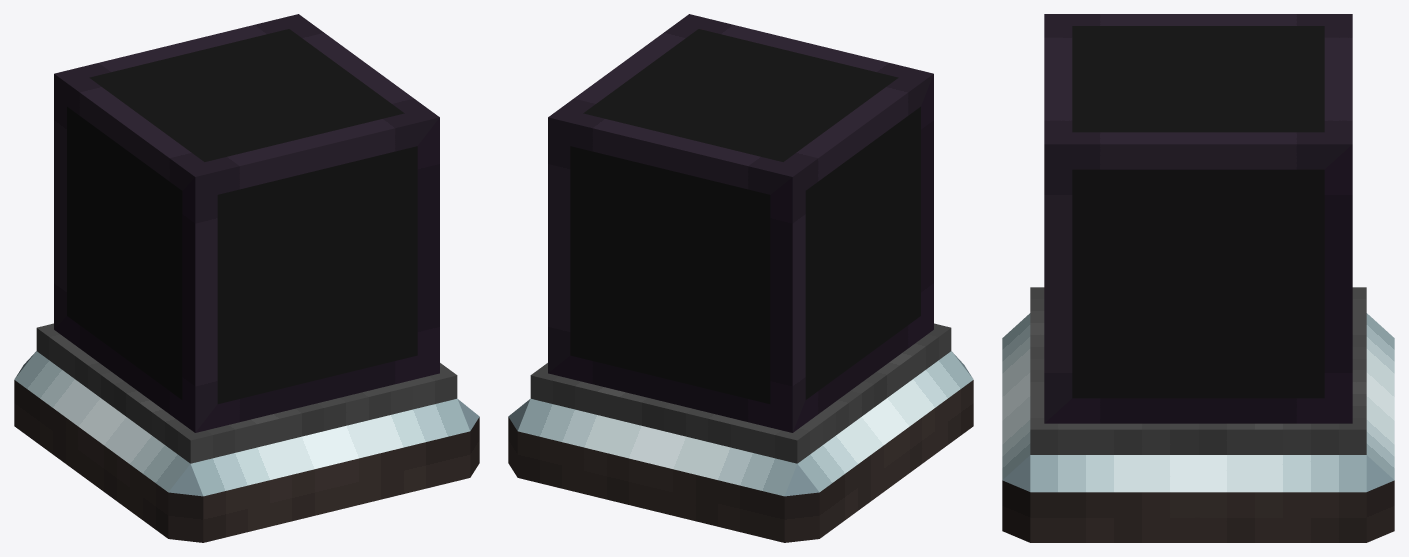
Rendered from terrarium_end_inventory.obj.
3 views of the same model, side by side, from view 1: azimuth 30°, elevation 25°; view 2: azimuth 150°, elevation 25°; view 3: azimuth 270°, elevation 25° (orthographic). The views are drawn at different scales.
Parts seen in each view (by area): view 1: TERRARIUM_GLASS_DARK_Cube.048, TERRARIUM_BASE_SMALLER_Cube.015; view 2: TERRARIUM_GLASS_DARK_Cube.048, TERRARIUM_BASE_SMALLER_Cube.015; view 3: TERRARIUM_GLASS_DARK_Cube.048, TERRARIUM_BASE_SMALLER_Cube.015.
Boxes of the visible parts, x1,y1,x2,y2 form: TERRARIUM_GLASS_DARK_Cube.048: (54,14,439,432); TERRARIUM_BASE_SMALLER_Cube.015: (14,323,479,542); TERRARIUM_GLASS_DARK_Cube.048: (548,14,933,432); TERRARIUM_BASE_SMALLER_Cube.015: (508,323,973,542); TERRARIUM_GLASS_DARK_Cube.048: (1044,14,1352,423); TERRARIUM_BASE_SMALLER_Cube.015: (1002,287,1394,542).
Bounding box in the file's own units: 0.875 × 0.9375 × 0.875.
